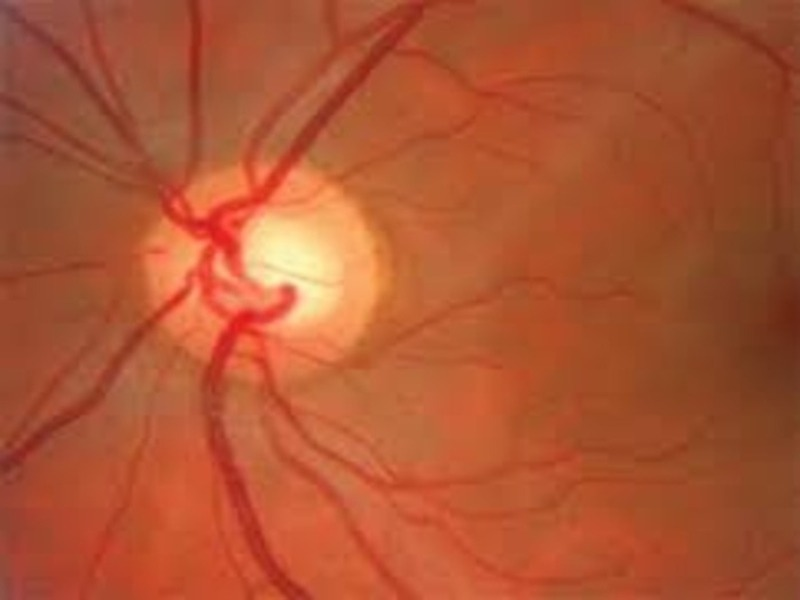Optic Cup: (249, 212, 339, 314)
Optic Disc: (147, 162, 388, 375)
